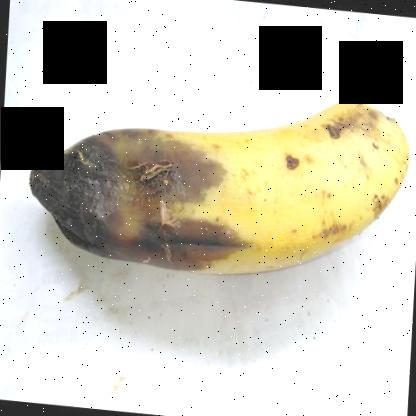rotten: (17, 113, 252, 292), (318, 82, 392, 152)
